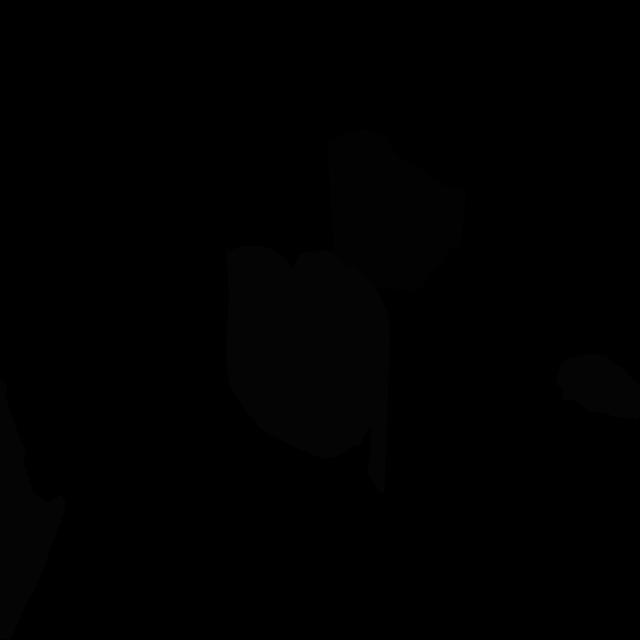cardboard: (327, 129, 466, 291)
soft_plastic: (226, 246, 390, 494), (0, 380, 66, 640), (556, 353, 640, 420)
